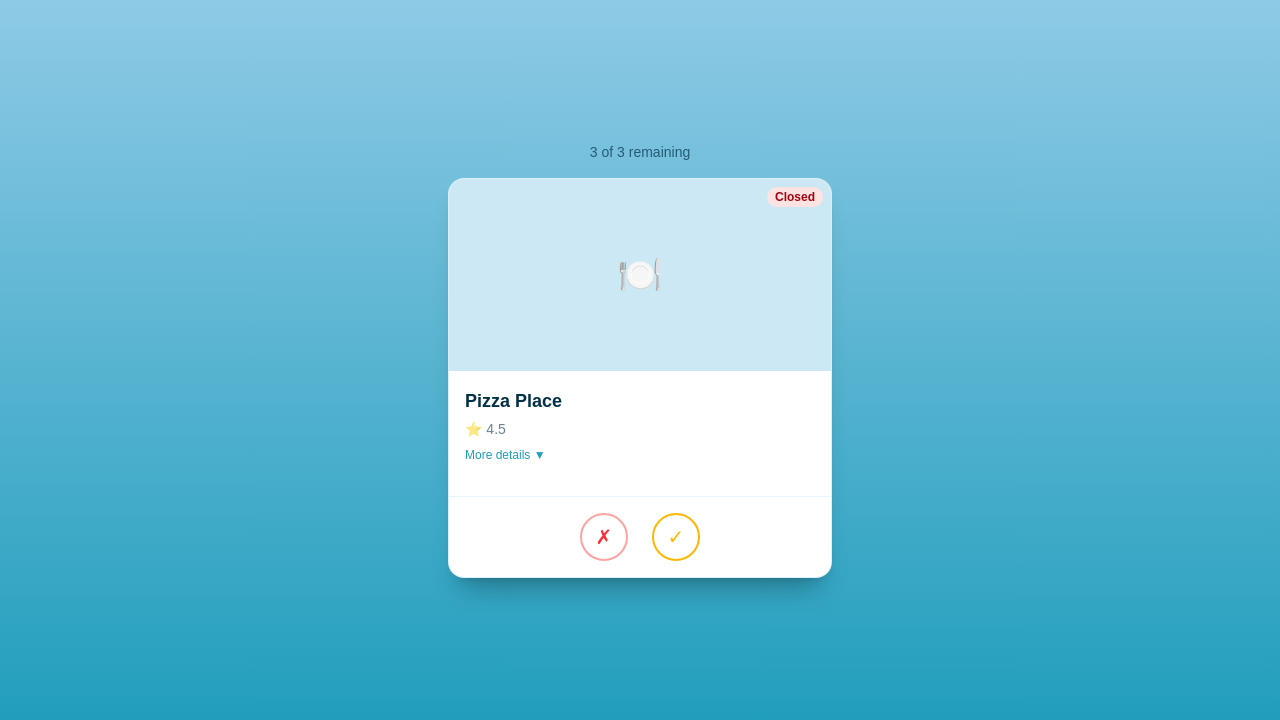
Test: SwipeDeck › updates progress counter after successful swipe
Click the button with test id "accept-button" at (676, 537), box x1=652 y1=513 x2=700 y2=561
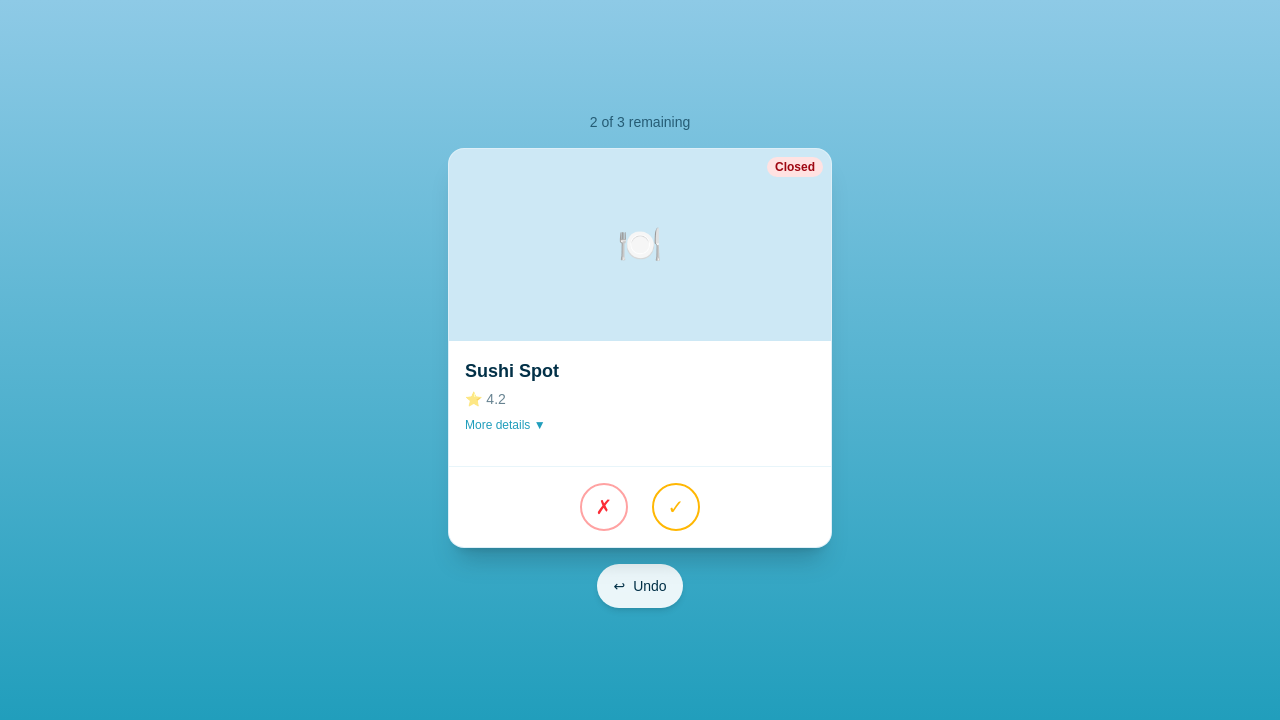
expect the text with test id "progress-counter" reads "2 of 3 remaining": met, box x1=590 y1=114 x2=690 y2=130
